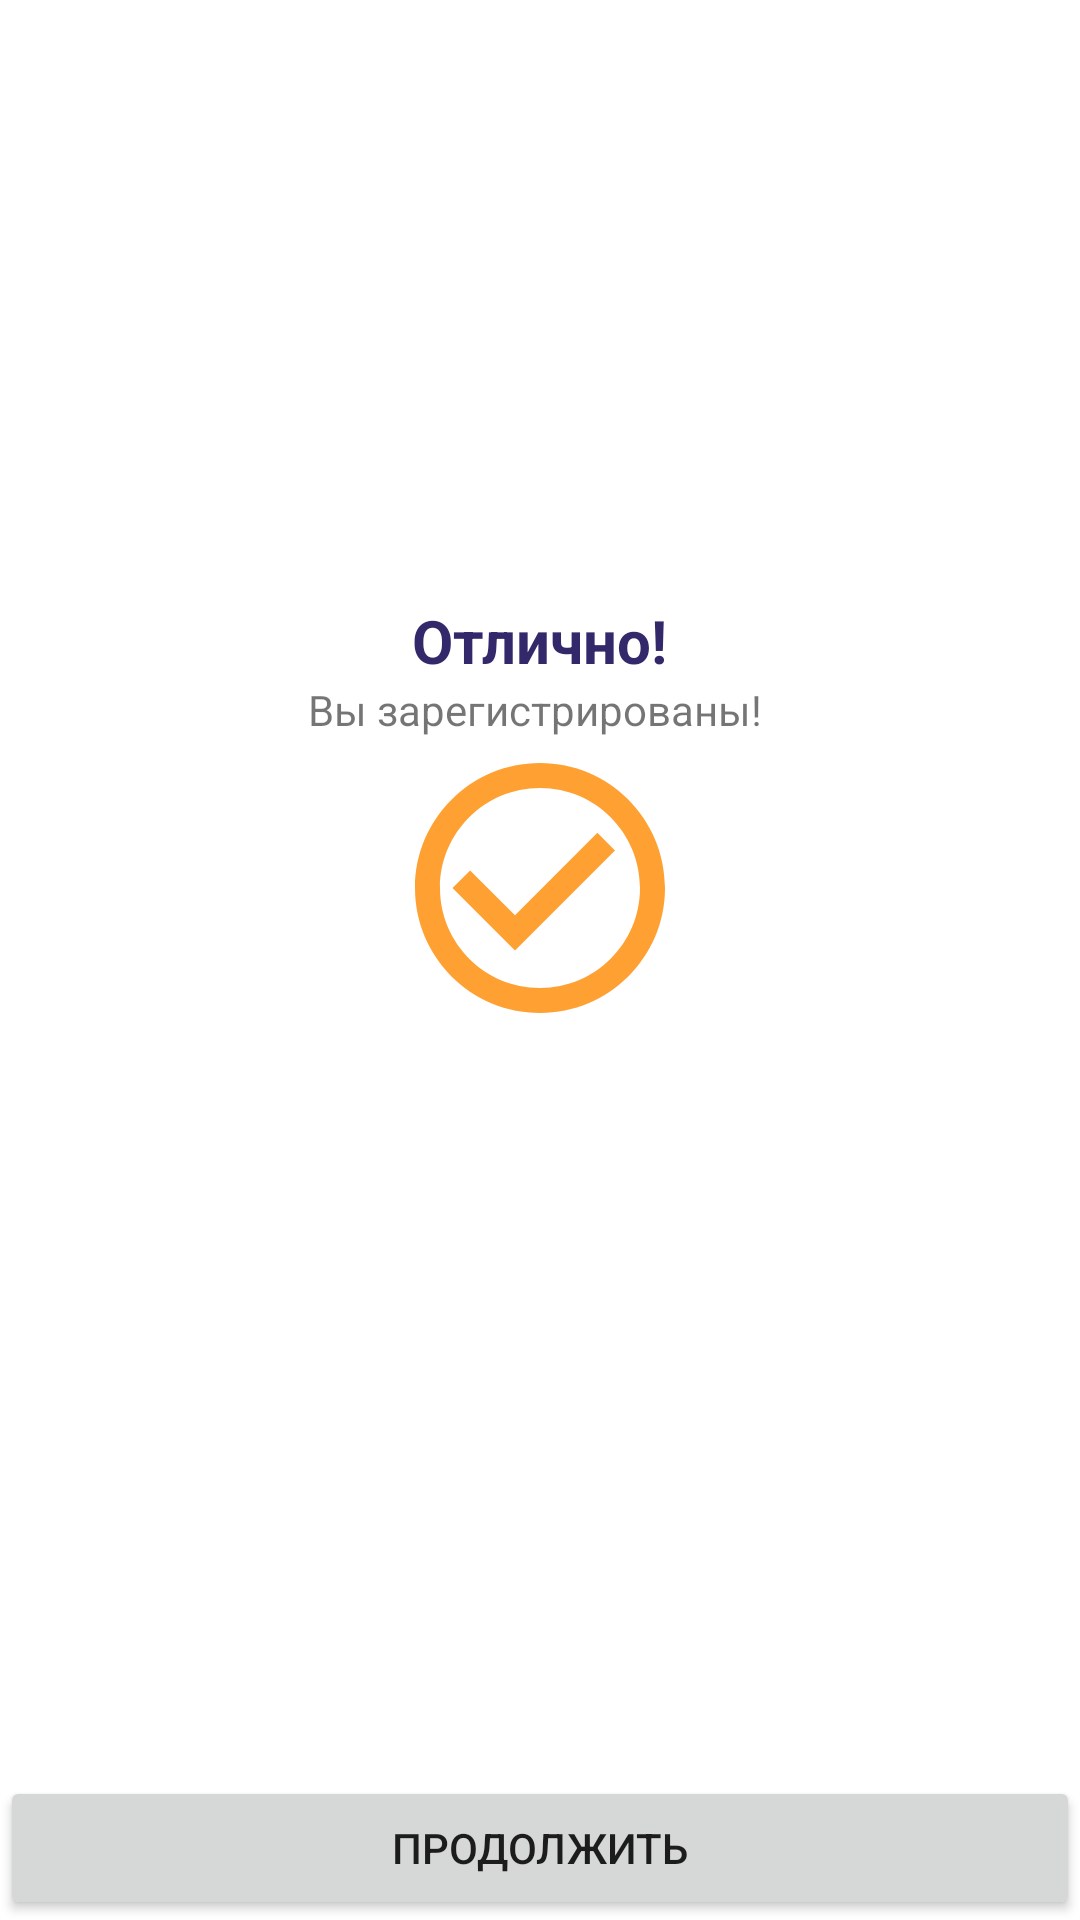

Icon click points for this 1080x1920 phone screenshot, format (x=x, y=y):
check mark: (x=540, y=888)
